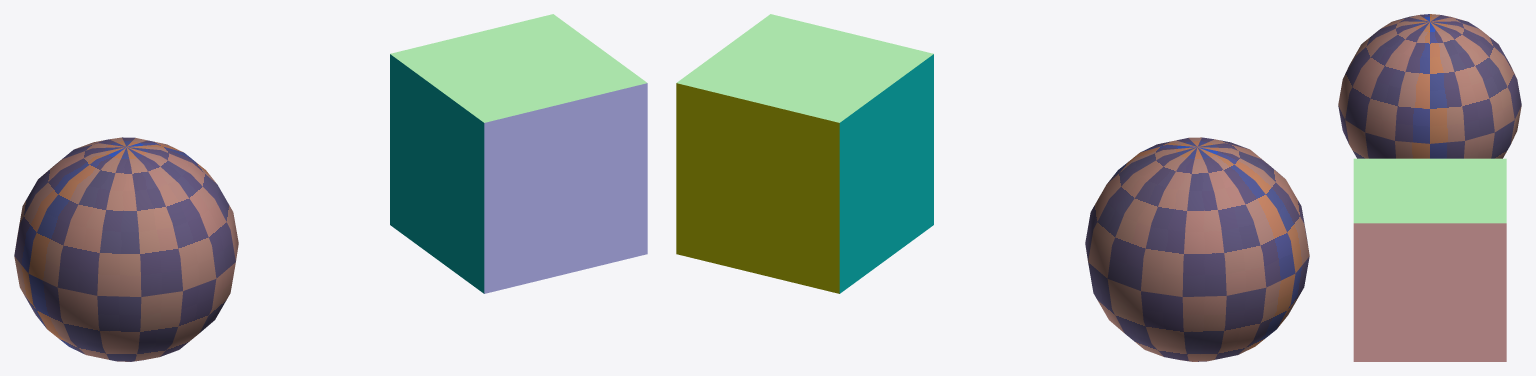
The model's file is webp.glb.
The picture shows the model from 3 angles, left to right: view 1: azimuth 30°, elevation 25°; view 2: azimuth 150°, elevation 25°; view 3: azimuth 270°, elevation 25°; orthographic projection. The views are drawn at different scales.
Parts seen in each view (by area): view 1: Box, object 1; view 2: Box, object 1; view 3: Box, object 1.
Part boxes in pixels (left/top/right/bottom): Box: left=390, top=14, right=647, bottom=293; object 1: left=14, top=137, right=238, bottom=361; Box: left=676, top=14, right=933, bottom=293; object 1: left=1085, top=137, right=1309, bottom=361; Box: left=1353, top=158, right=1506, bottom=361; object 1: left=1338, top=14, right=1521, bottom=158.
Size of the model in its own units: 3.5 by 1.2 by 1.2.
2 materials, 1 textured.
